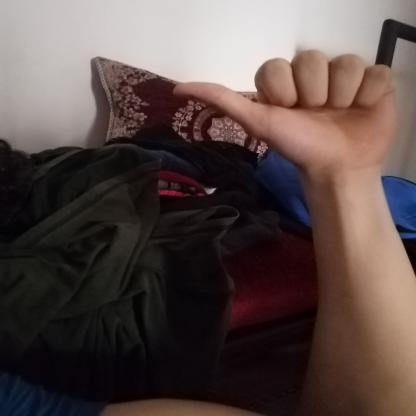DAD: (155, 41, 409, 184)
